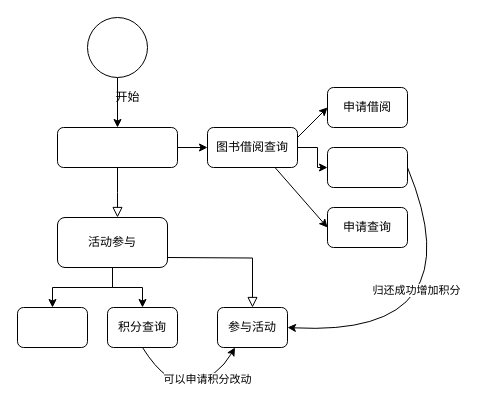
Some shapes in this 478 by 403 pixel diagram are drawn without their labels. The centre of each missing label's shape, as x and y in pixels:
"查看活动" belongs at point 52,327.
"申请归还" belongs at point 367,167.
"登录" belongs at point 117,147.
